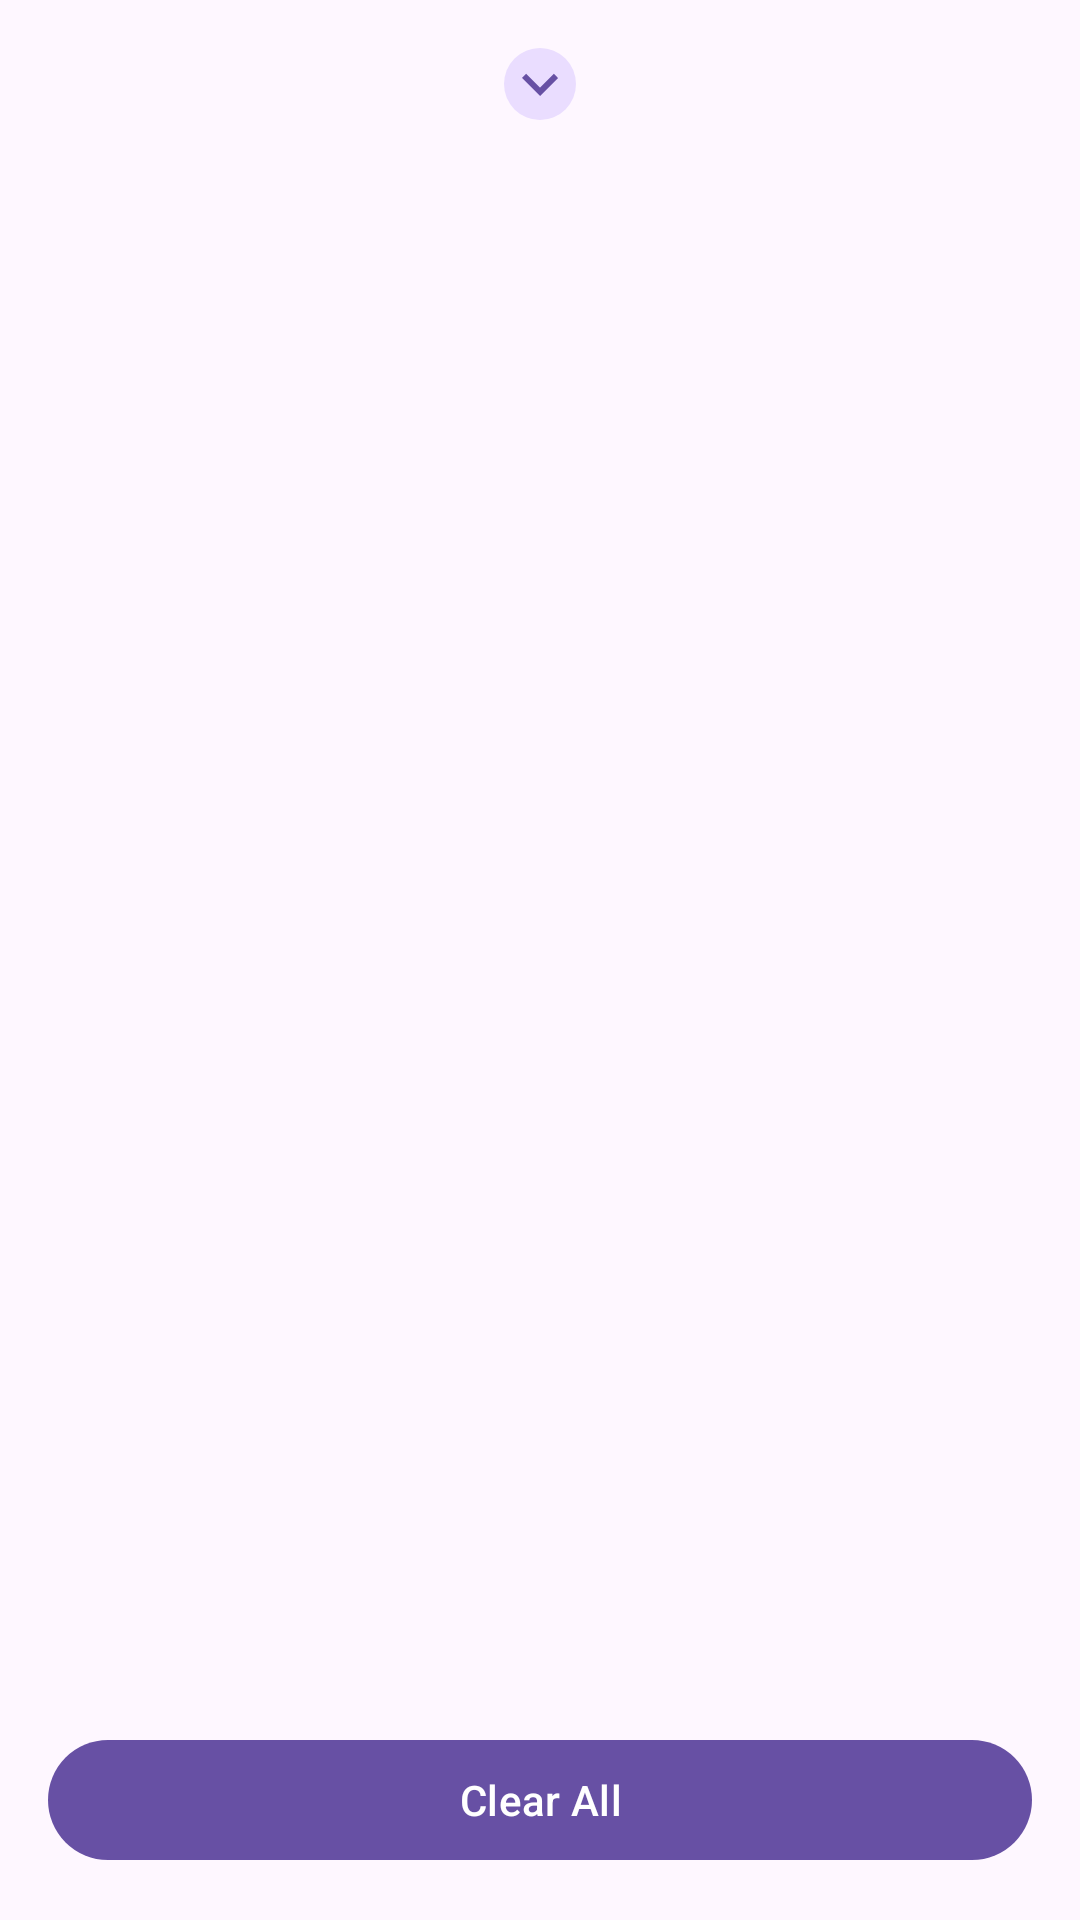

Named icons in this screenshot (1080 x 1920) and their centers, (x=x, y=y):
down: (x=539, y=84)
